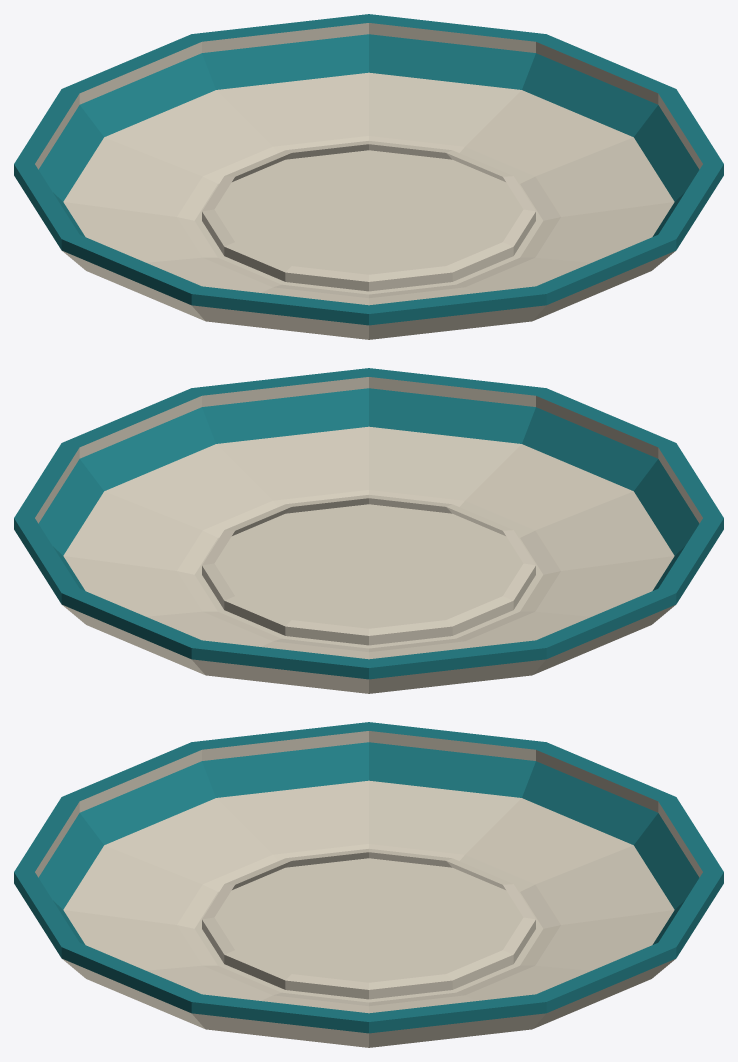
File: saucer.glb
The picture shows the model from 3 angles, top to bottom: view 1: azimuth 30°, elevation 25°; view 2: azimuth 150°, elevation 25°; view 3: azimuth 270°, elevation 25°; orthographic projection.
Visible parts, largest first — view 1: saucer; view 2: saucer; view 3: saucer.
Boxes of the visible parts, bbox=[...] form: saucer: bbox=[14, 14, 723, 339]; saucer: bbox=[14, 368, 723, 693]; saucer: bbox=[14, 722, 723, 1047].
Size of the model in its own units: 0.17 by 0.02 by 0.17.
